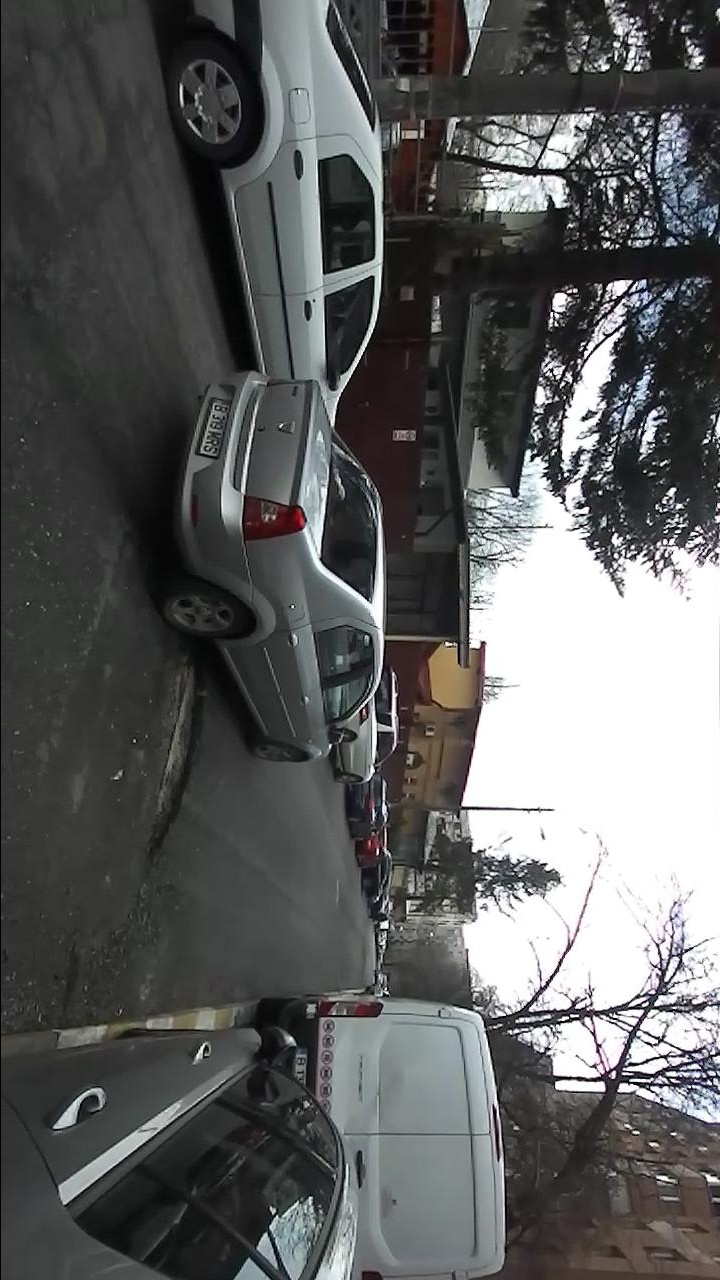pothole: (137, 649, 207, 869)
